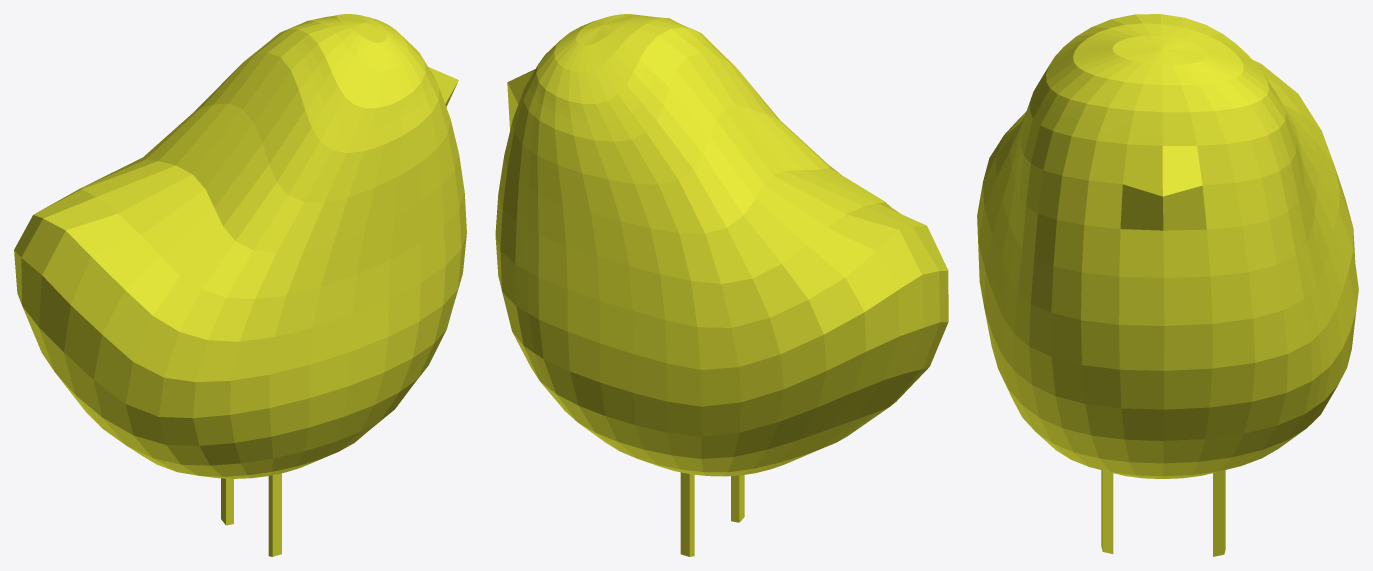
The model's file is hiyoko.fbx.
3 views of the same model, side by side, from view 1: azimuth 30°, elevation 25°; view 2: azimuth 150°, elevation 25°; view 3: azimuth 270°, elevation 25° (orthographic). The views are drawn at different scales.
Visible parts, largest first — view 1: 球; view 2: 球; view 3: 球.
Boxes of the visible parts, box(x1,y1,x2,y2) form: 球: box(14, 14, 466, 556); 球: box(495, 14, 948, 556); 球: box(977, 14, 1358, 556).
Bounding box in the file's own units: 106 × 119 × 71.82.
